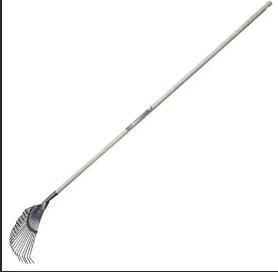RATEAU: (7, 2, 278, 272)
